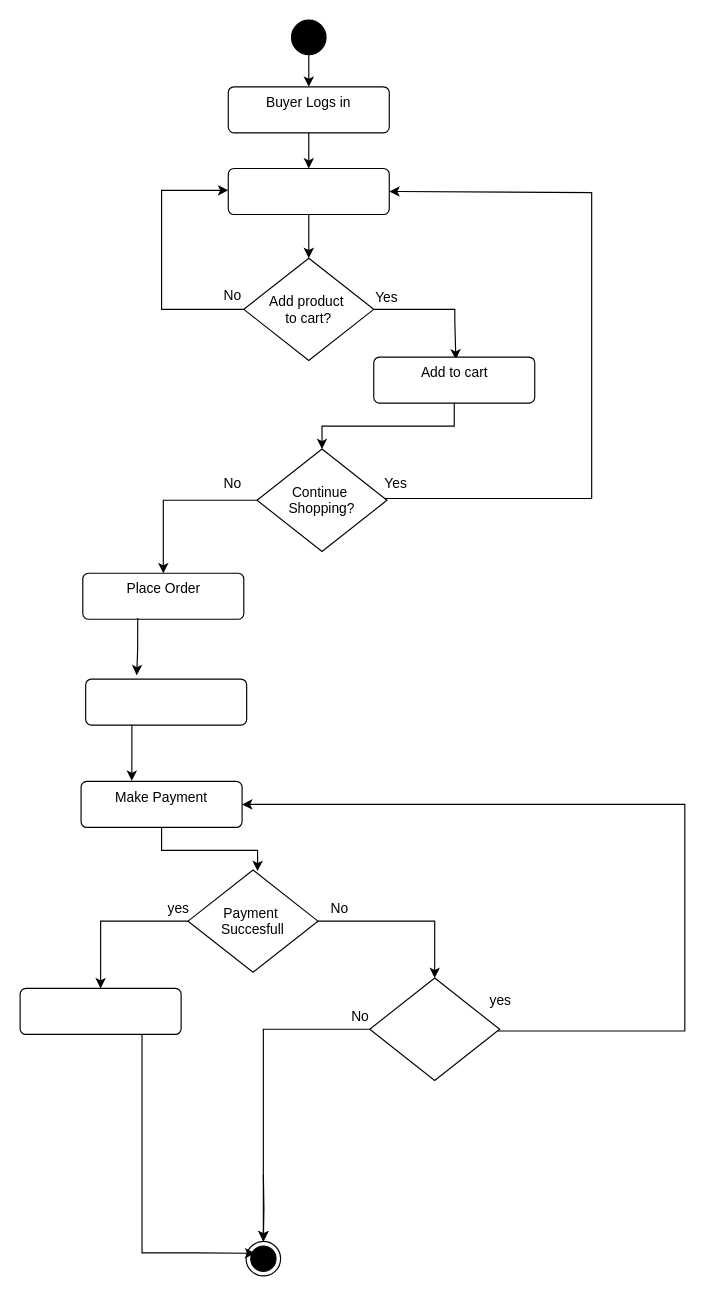
This 714x1296 diagram has some shape labels left out. Each missing label, with the box of its shape:
Browse Product: (227, 167, 389, 214)
Order Confirmed: (19, 987, 181, 1034)
Retry: (369, 977, 500, 1080)
Show order Summary: (85, 678, 247, 725)
